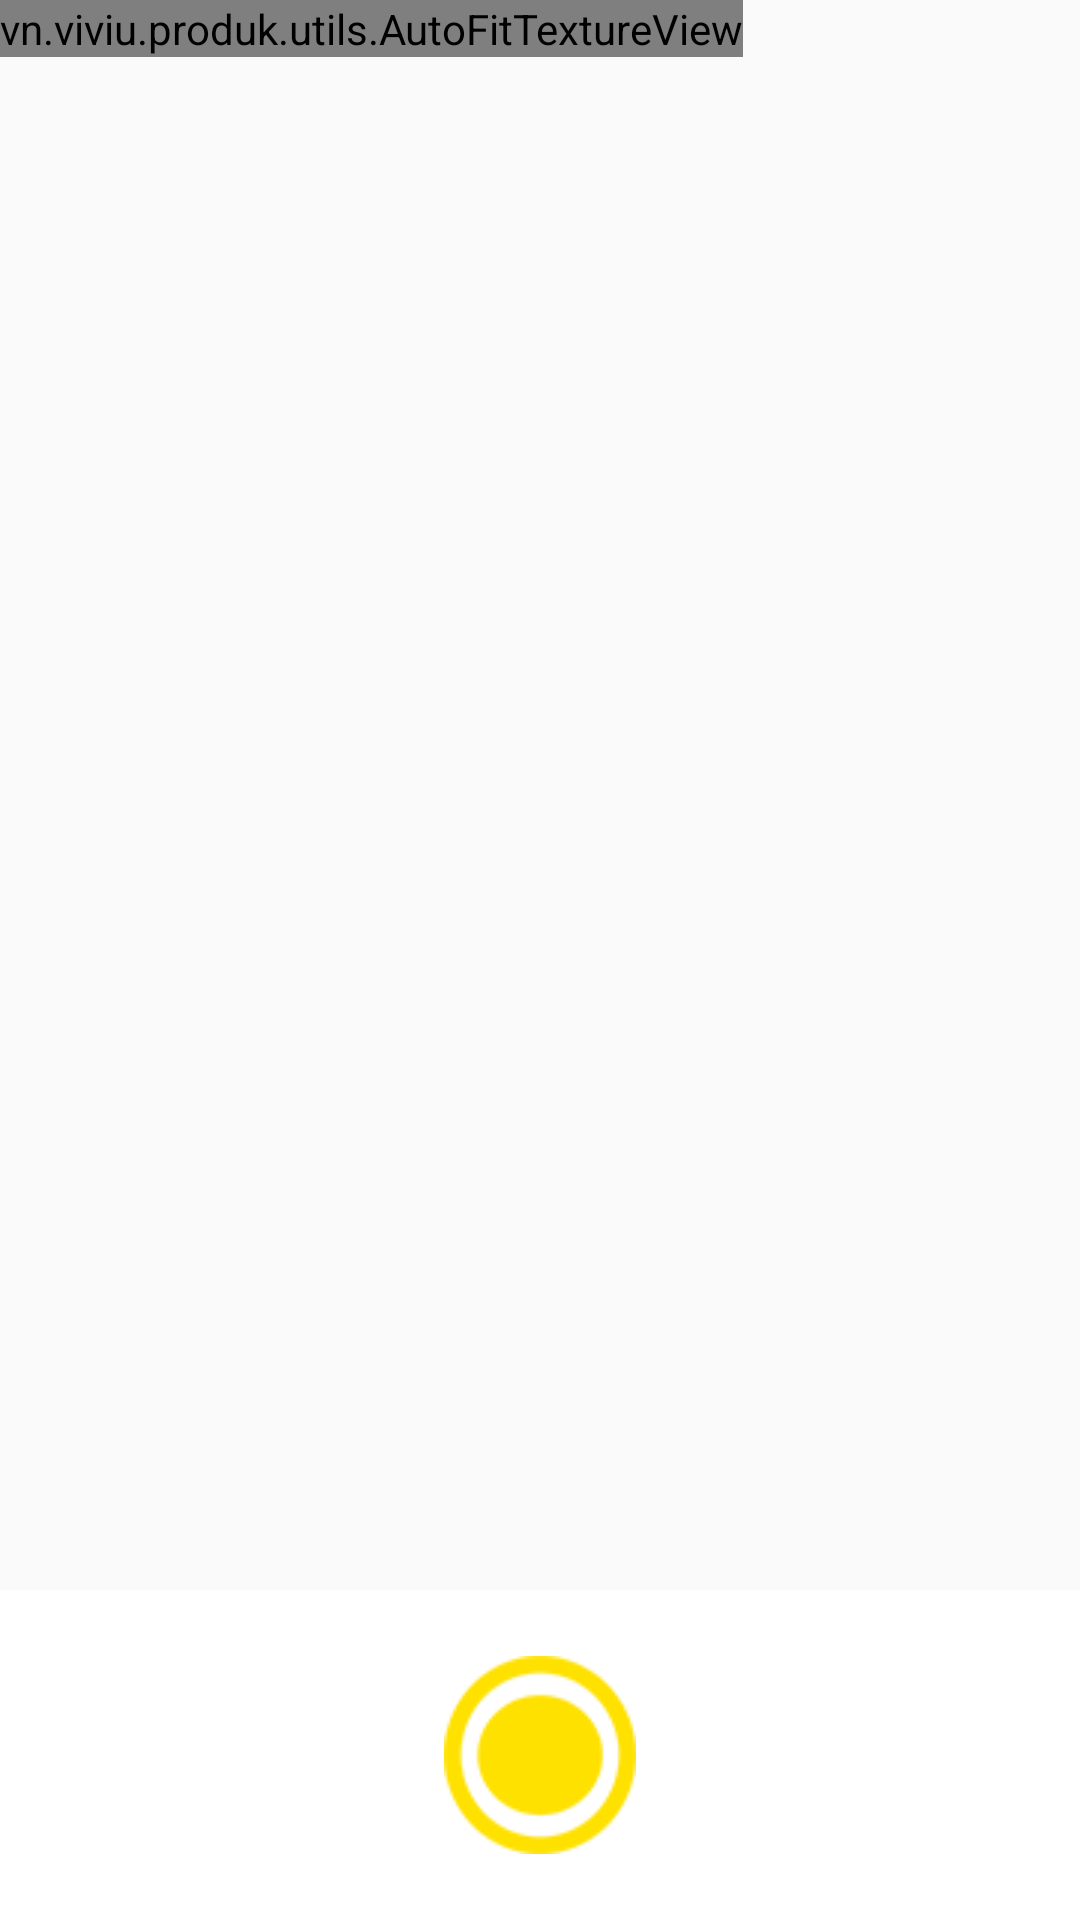

Where to tap for icons on this 1080×1920 app screen, as point (x, y):
Take Picture: point (540, 1755)
